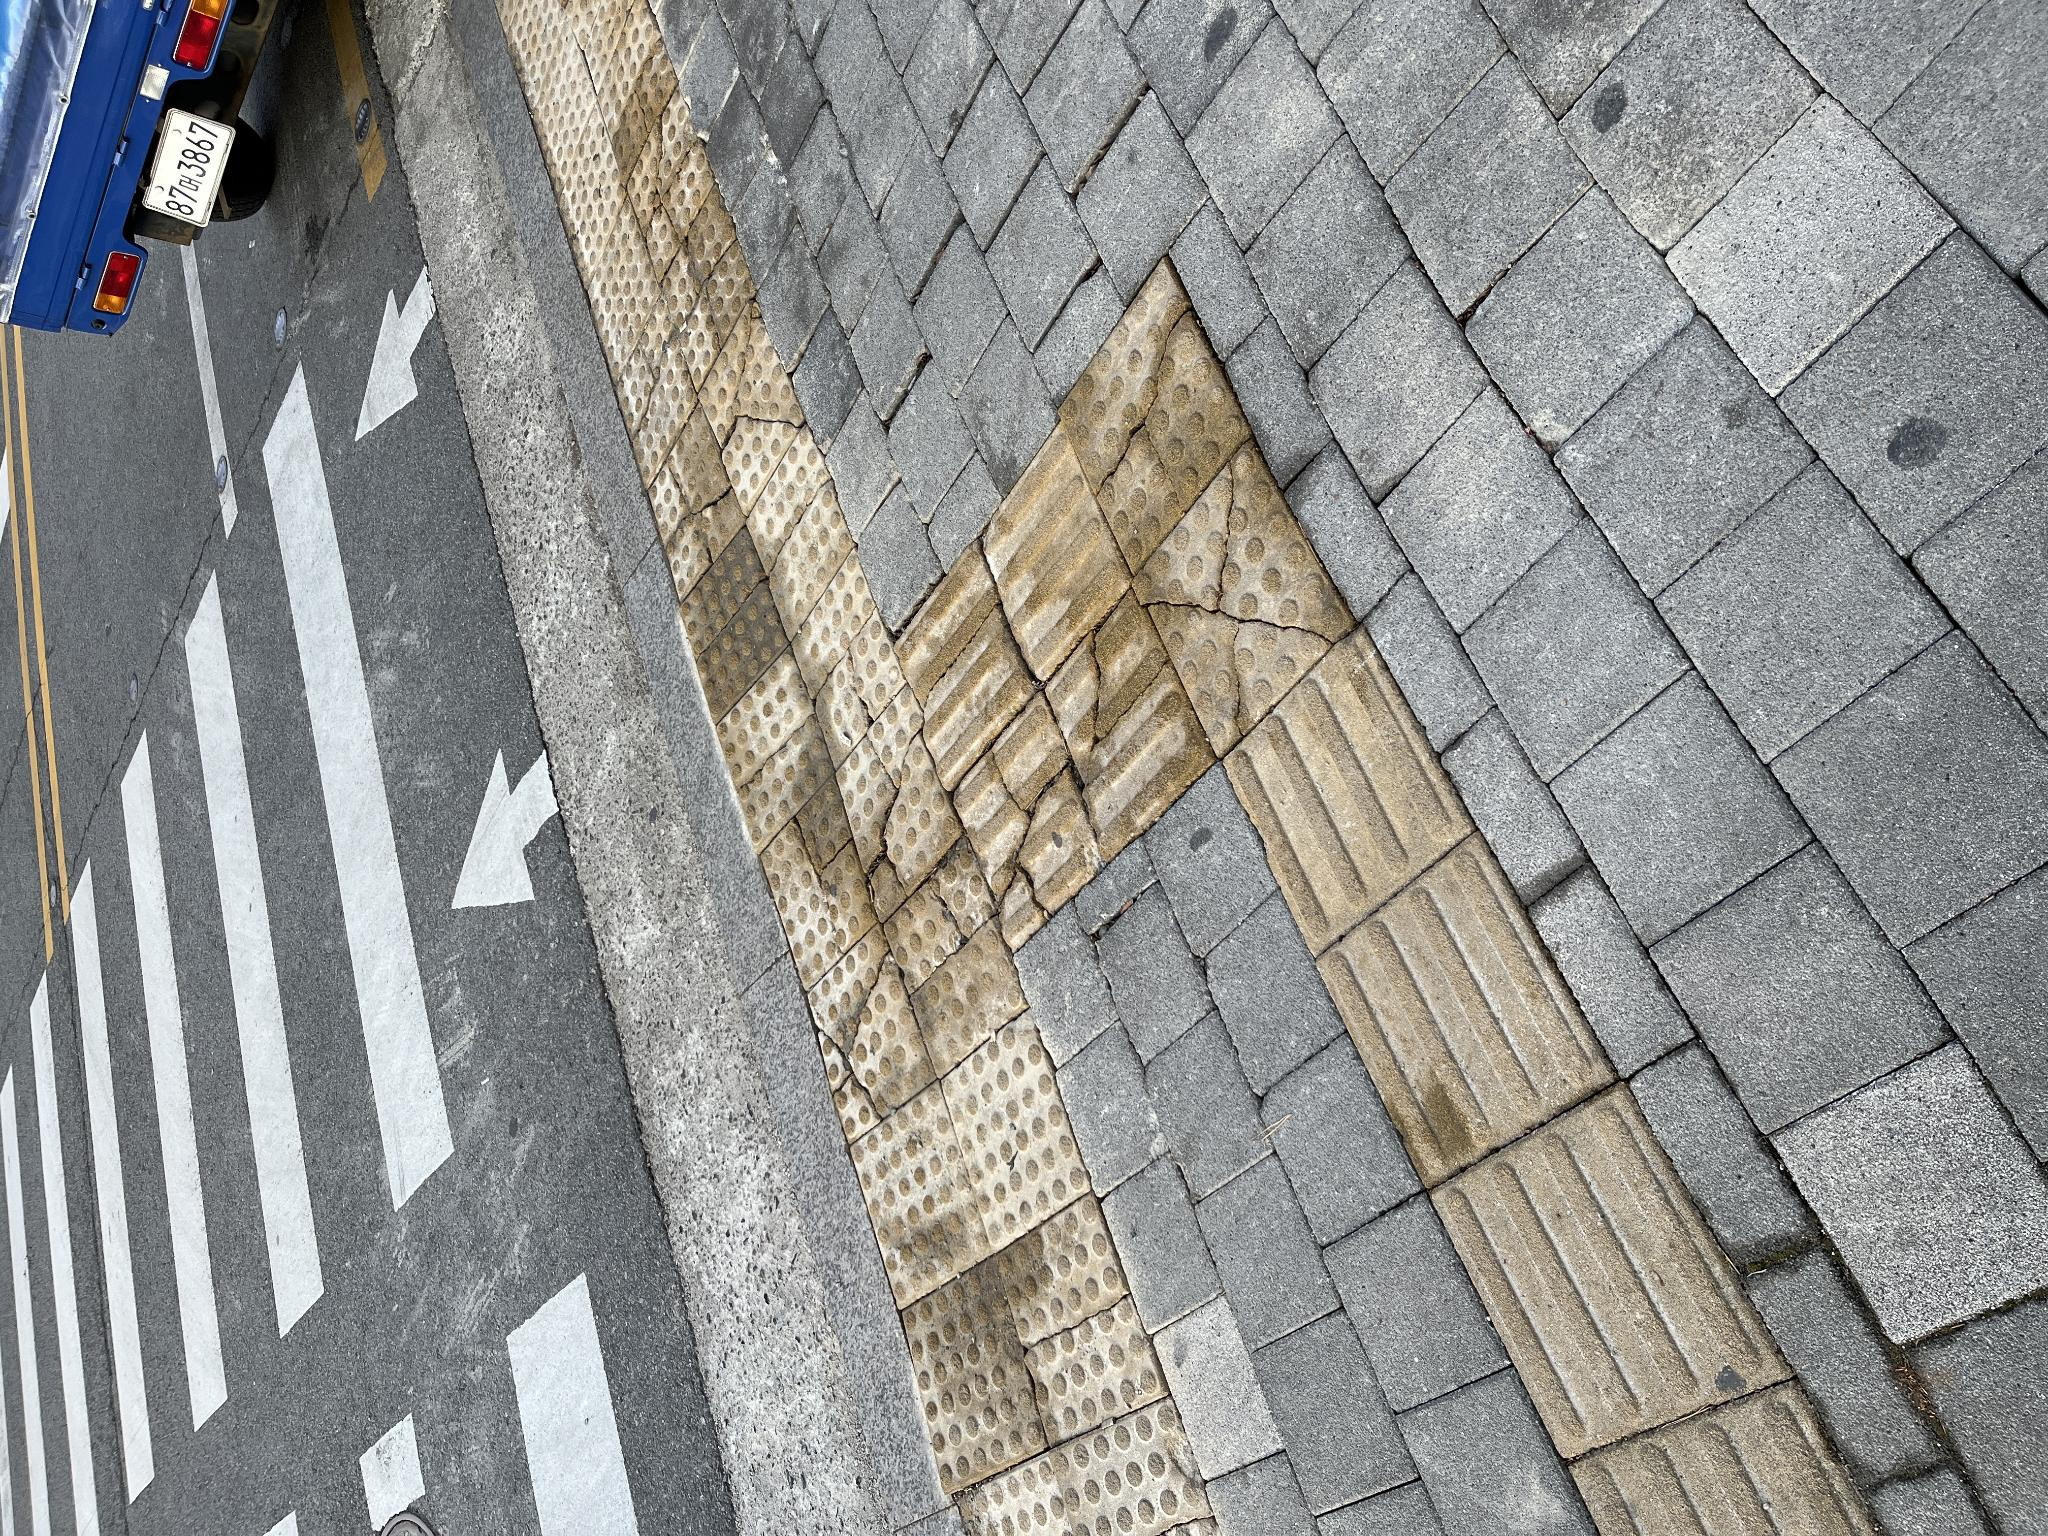Stop block broken: (785, 1132, 1094, 1348), (964, 1058, 1275, 1247), (91, 996, 338, 1164), (459, 884, 689, 1026), (615, 837, 848, 960), (393, 809, 612, 933), (547, 761, 758, 874), (771, 793, 984, 904), (897, 747, 1109, 851), (1024, 700, 1235, 804), (688, 719, 884, 829), (815, 681, 1004, 785), (937, 649, 1134, 745), (1145, 662, 1350, 753), (1255, 627, 1449, 713), (1049, 615, 1243, 696), (1354, 599, 1535, 674)
Stop block normal: (286, 941, 525, 1088), (43, 902, 279, 1044), (227, 850, 454, 991), (1151, 588, 1340, 657), (1250, 559, 1431, 625), (1339, 532, 1518, 595)
Straight block broken: (677, 1043, 944, 1212), (582, 953, 841, 1104), (746, 896, 992, 1034)
Straight block normal: (584, 1225, 905, 1470), (350, 1318, 699, 1536), (854, 980, 1110, 1126)
